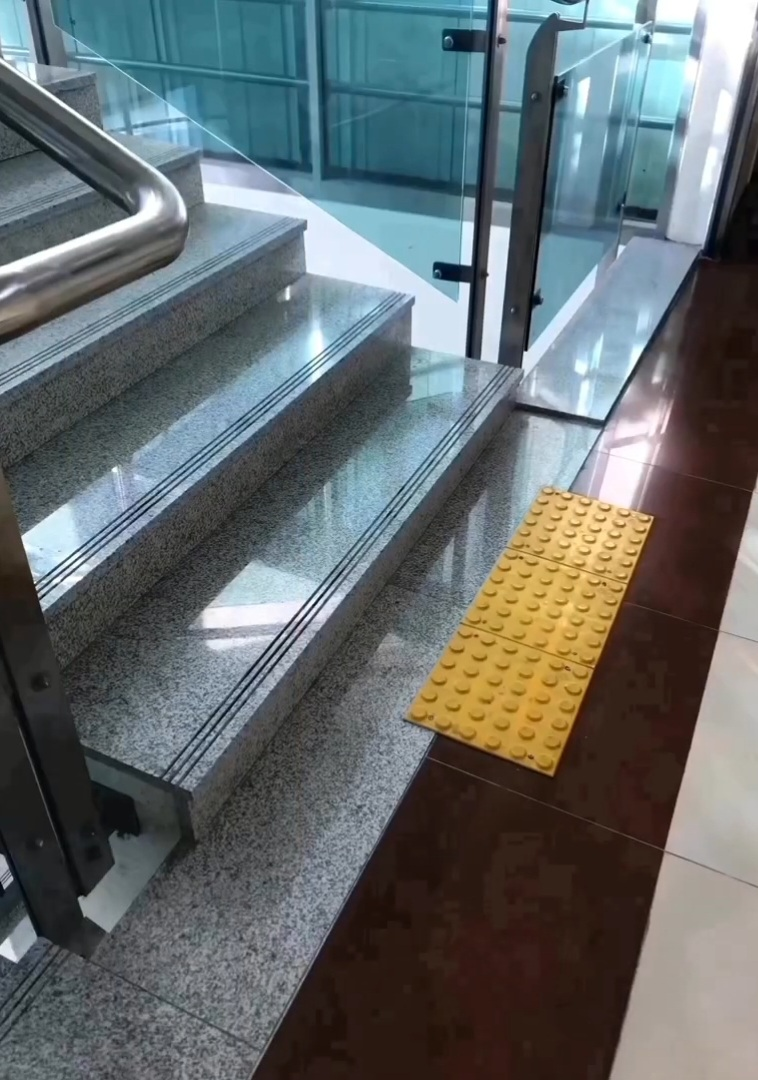warningBlock: (453, 635, 570, 746), (507, 561, 594, 654), (547, 493, 628, 582)
